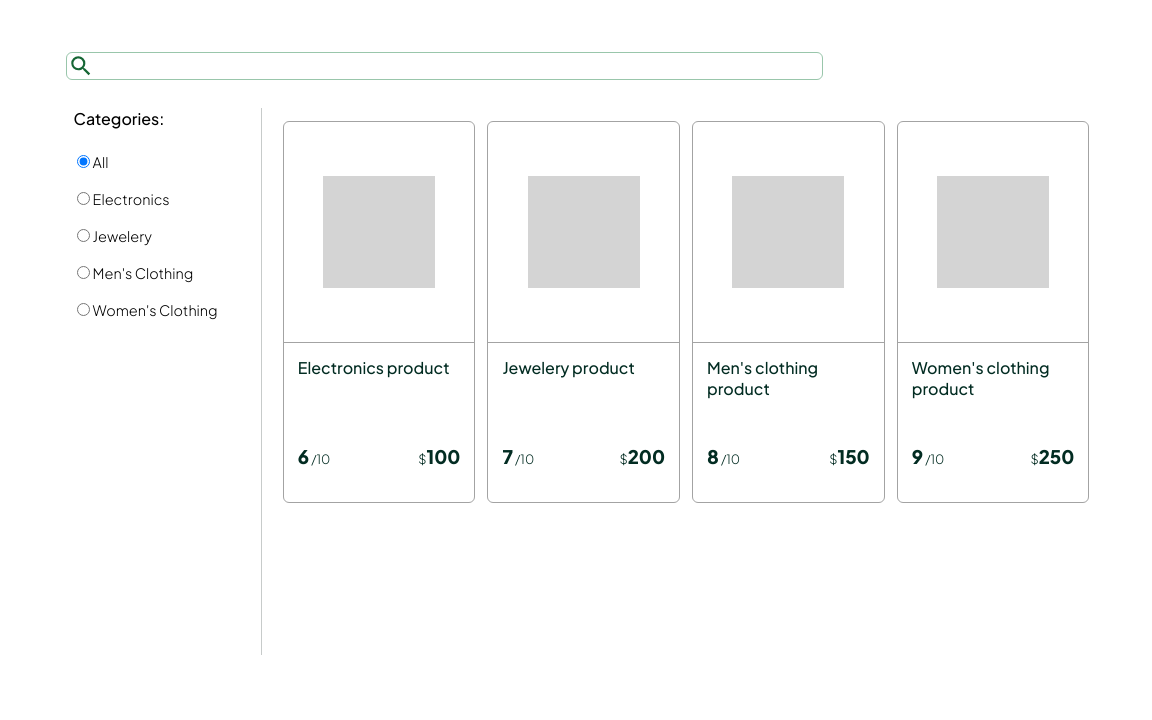
Test: filter products › shows only electronics products when 'electronics' filter is clicked
Click the radio button labelled "Electronics" at {"x": 83, "y": 198}, box [77,192,90,205]
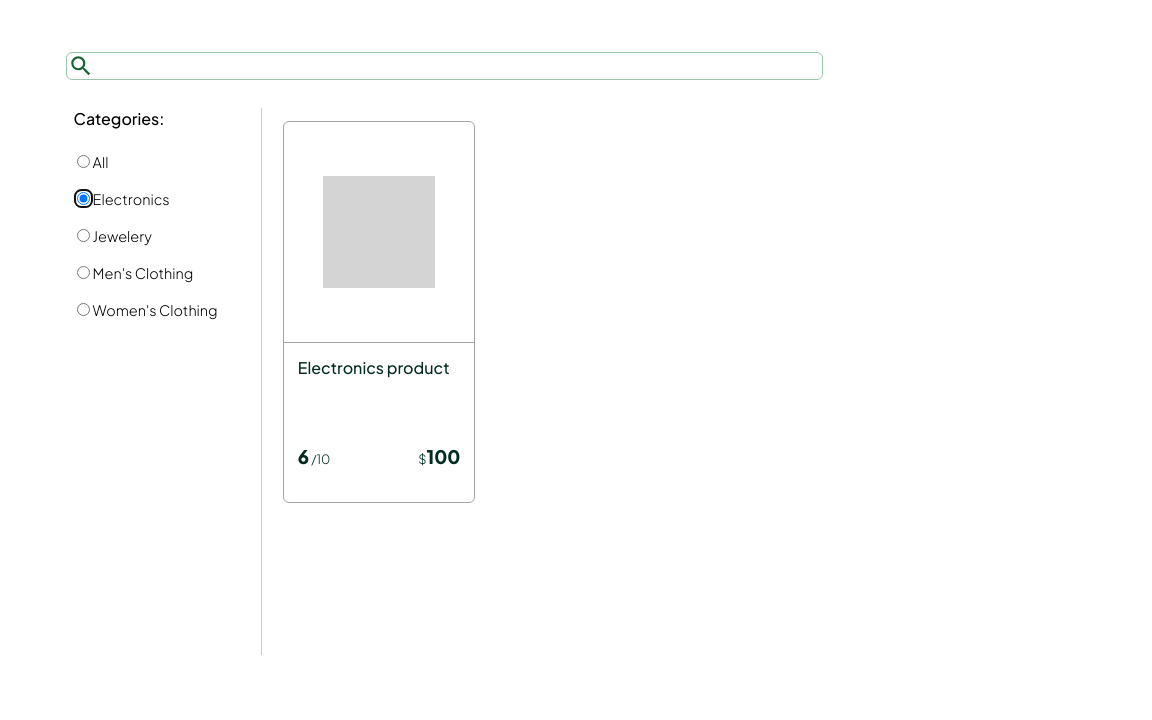
Check: the link "Jewelery product" is gone
Check: the link "Men's clothing product" is gone
Check: the link "Women's clothing product" is gone
